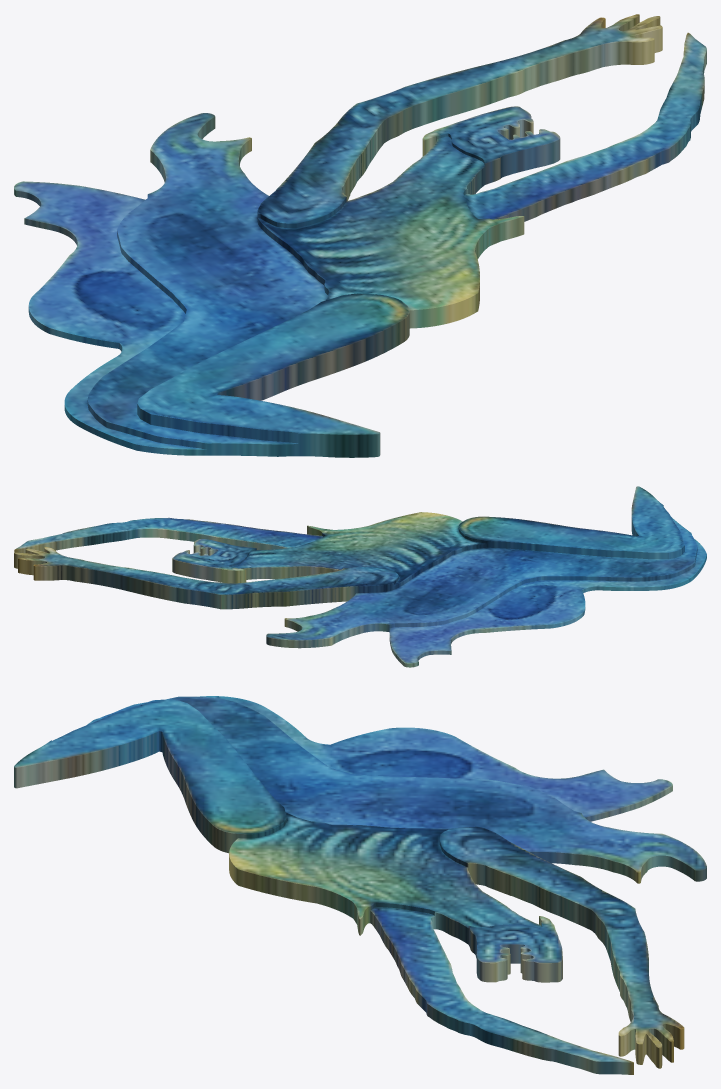
Rendered from El origen de nuestra 7.dae.
3 views of the same model, one above another, from view 1: azimuth 30°, elevation 25°; view 2: azimuth 150°, elevation 25°; view 3: azimuth 270°, elevation 25° (orthographic). The views are drawn at different scales.
Visible parts, largest first — view 1: SketchUp; view 2: SketchUp (×2); view 3: SketchUp (×2).
Part boxes in pixels (x1=…): SketchUp: x1=14, y1=14, x2=706, y2=457; SketchUp (×2): x1=14, y1=486, x2=706, y2=667; SketchUp (×2): x1=14, y1=696, x2=706, y2=1074.
Size of the model in its own units: 36.54 by 28.65 by 0.9375.
Materials: 1 (1 with a texture image).
